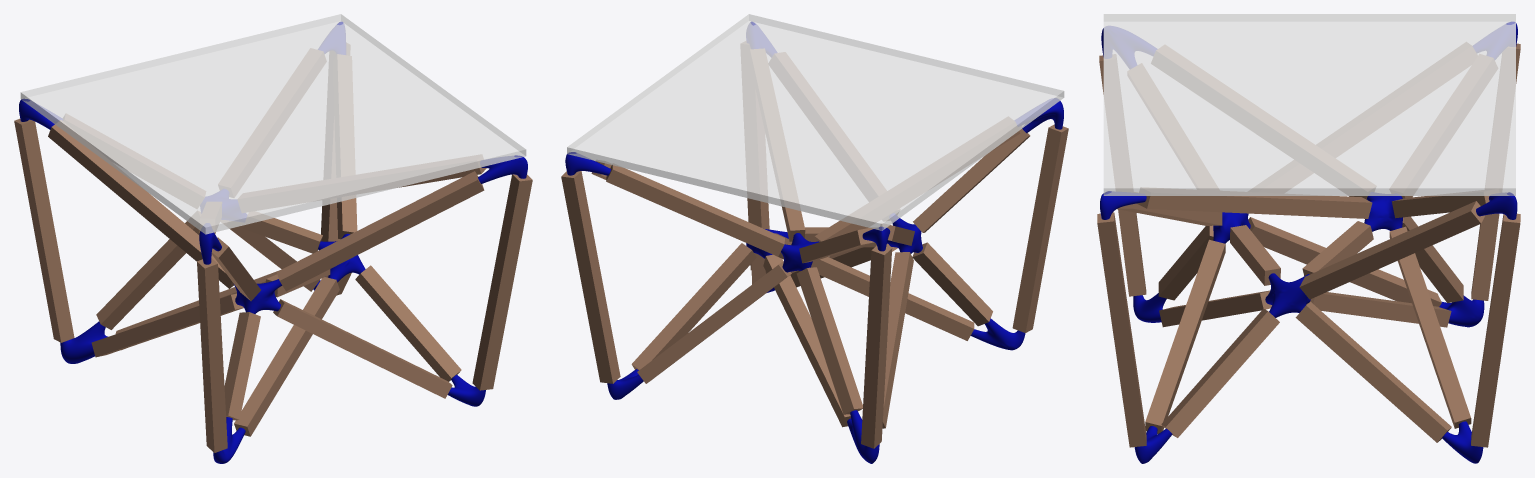
File: nodes table.obj
3 views of the same model, side by side, from view 1: azimuth 30°, elevation 25°; view 2: azimuth 150°, elevation 25°; view 3: azimuth 270°, elevation 25° (orthographic). The views are drawn at different scales.
Size of the model in its own units: 24.65 by 18.91 by 24.64.
